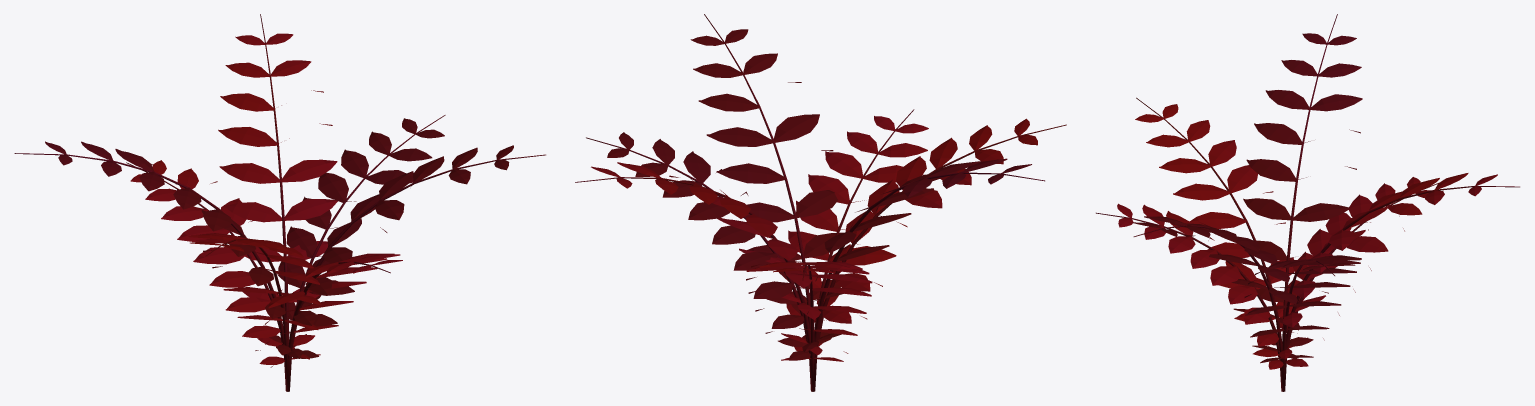
Rendered from SM_Fern.fbx.
3 views of the same model, side by side, from view 1: azimuth 30°, elevation 25°; view 2: azimuth 150°, elevation 25°; view 3: azimuth 270°, elevation 25° (orthographic). The views are drawn at different scales.
Visible parts, largest first — view 1: SM_Fern; view 2: SM_Fern; view 3: SM_Fern.
Boxes of the visible parts, left/top/right/bottom form: SM_Fern: left=14, top=14, right=545, bottom=391; SM_Fern: left=575, top=14, right=1066, bottom=391; SM_Fern: left=1096, top=14, right=1519, bottom=391.
Size of the model in its own units: 124 by 137 by 84.5.
